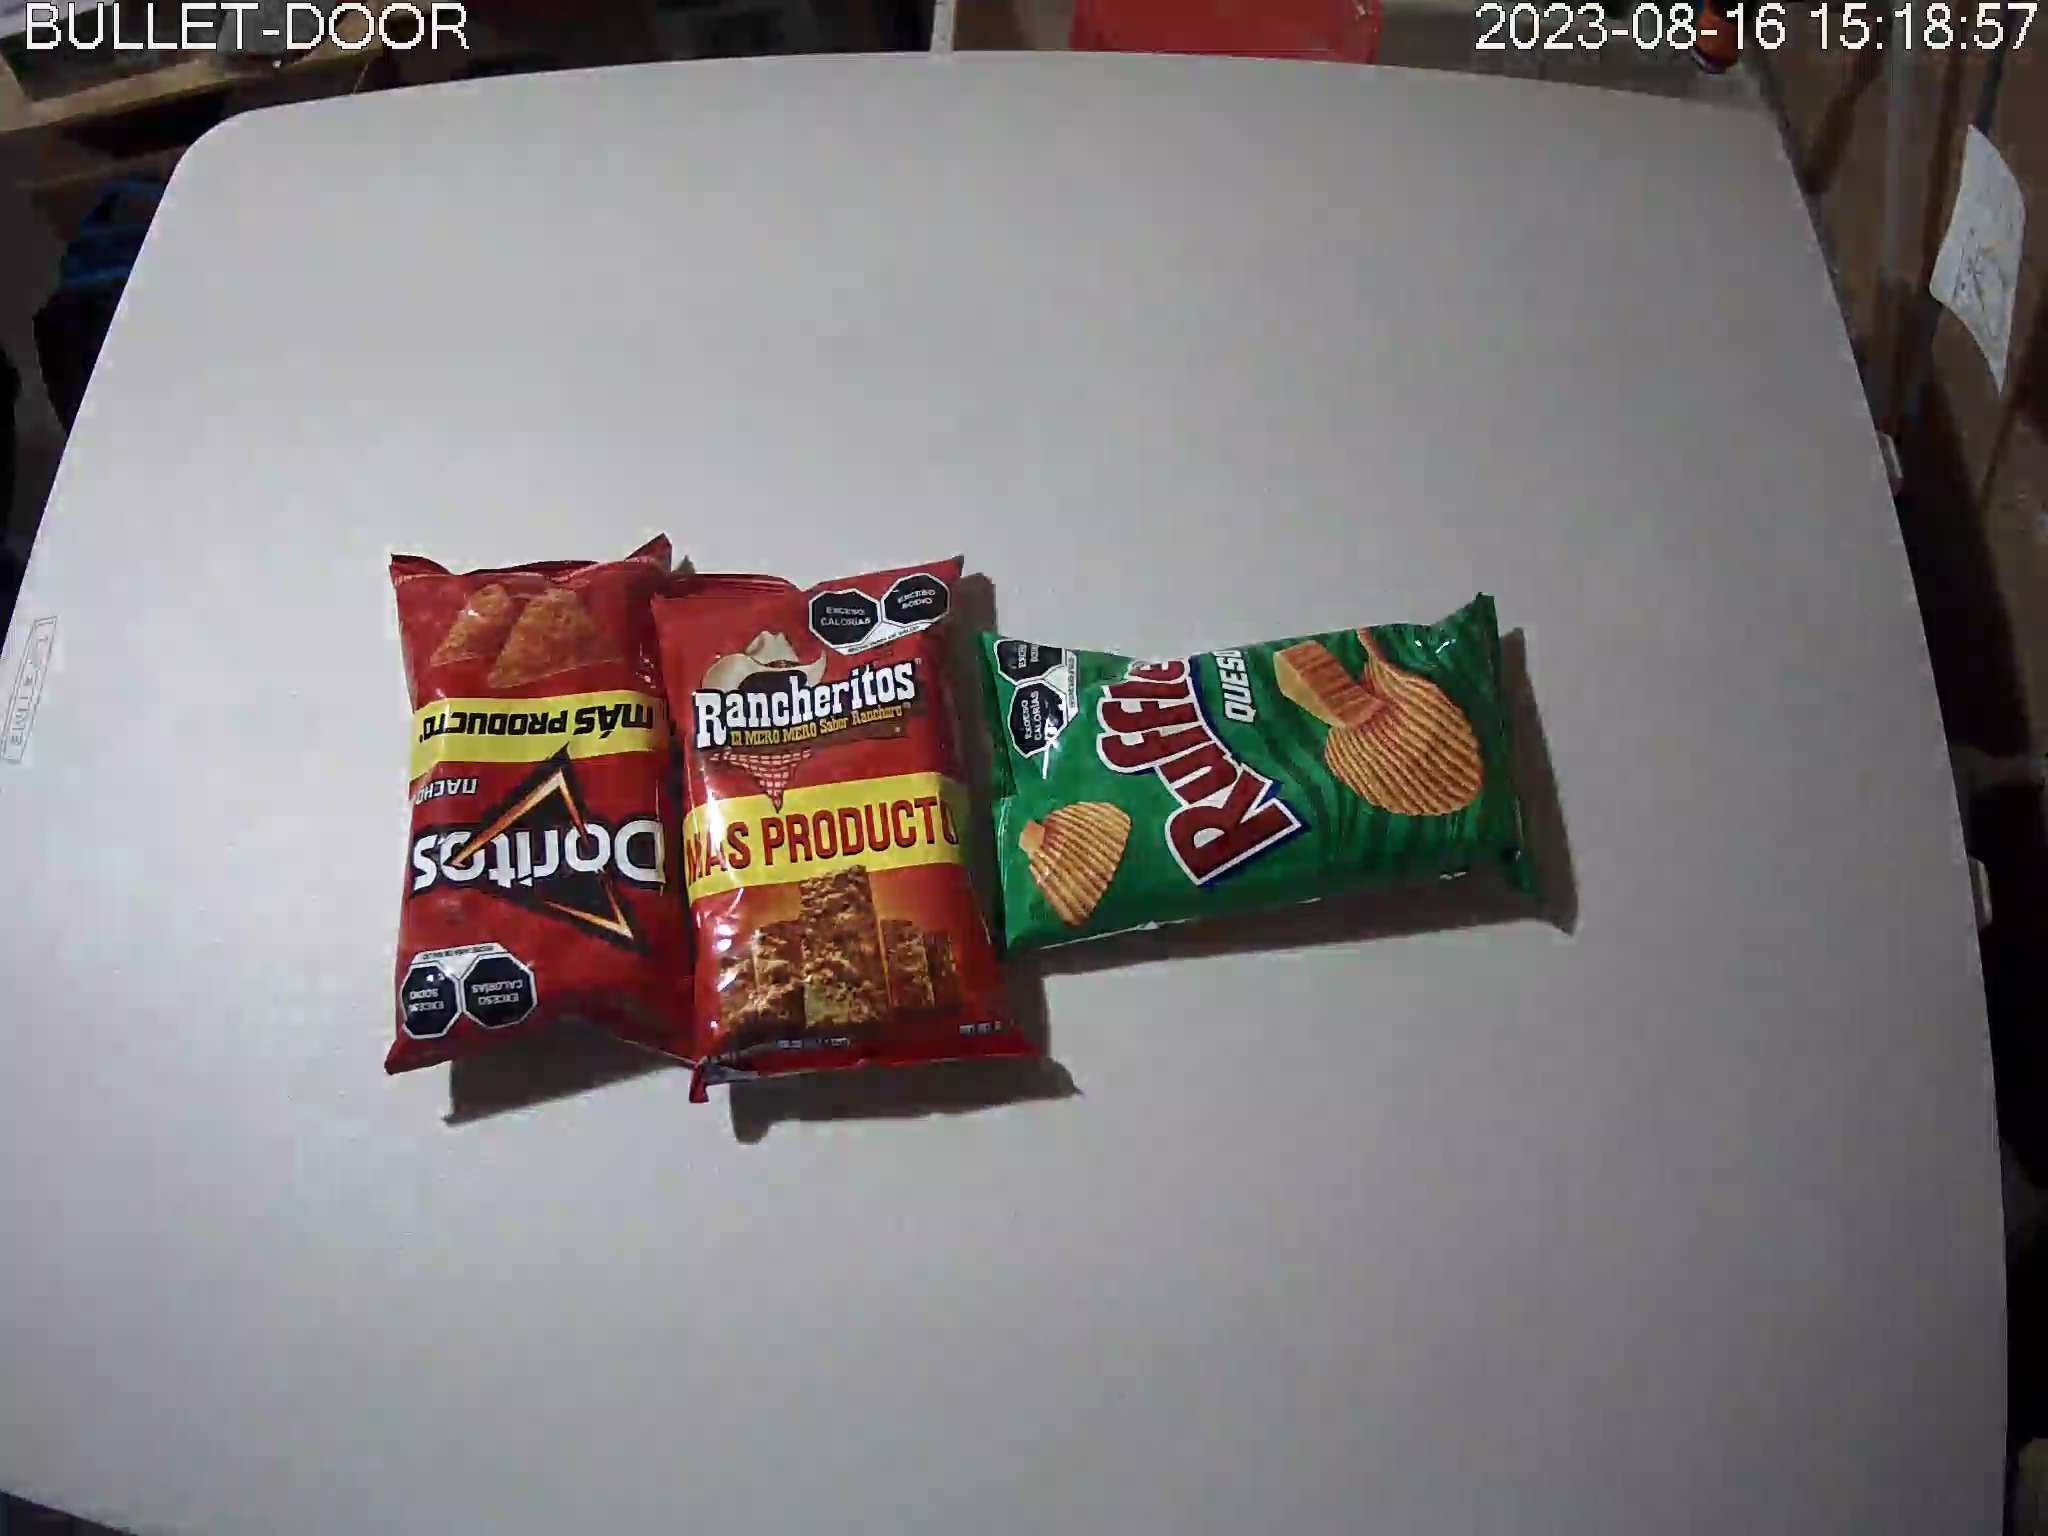DoritosN_61_F: (384, 536, 714, 1075)
Rancheritos_58_F: (645, 553, 1037, 1105)
RufflesQ_48_F: (968, 594, 1543, 966)
